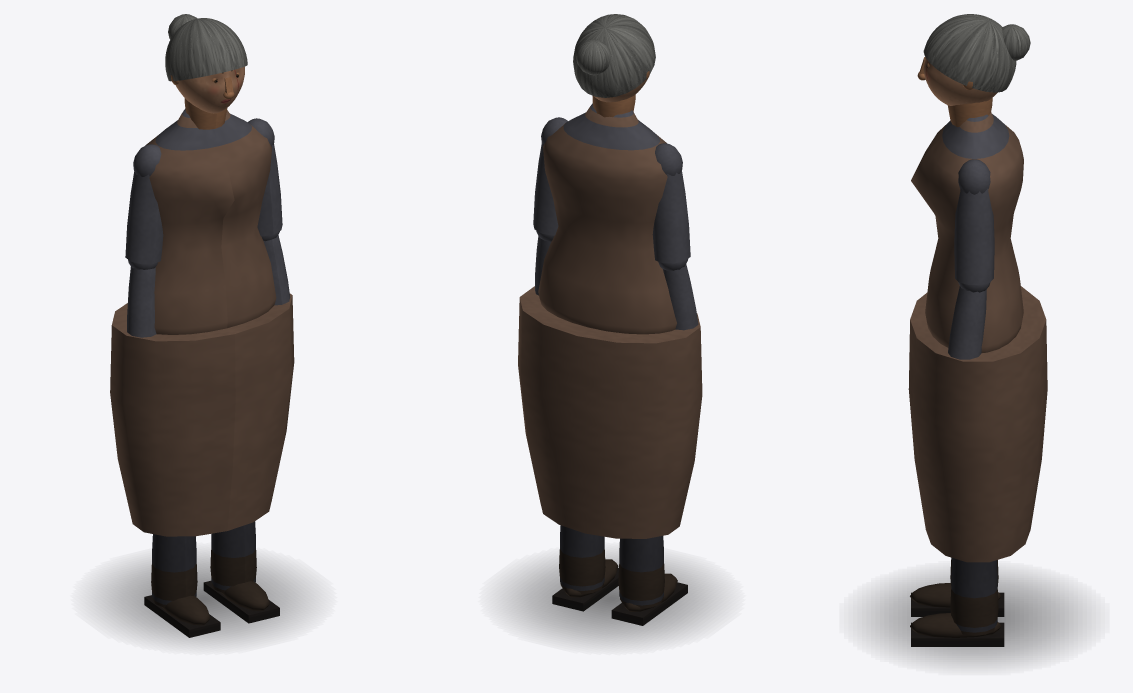
Rendered from npc_rook.glb.
3 views of the same model, side by side, from view 1: azimuth 30°, elevation 25°; view 2: azimuth 150°, elevation 25°; view 3: azimuth 270°, elevation 25° (orthographic). The views are drawn at different scales.
Parts seen in each view (by area): view 1: object 7, chest, object 12, head, shinL, shinR, armL, foreL, armR, foreR; view 2: object 7, chest, object 12, head, shinL, shinR, armL, armR, foreL; view 3: object 7, chest, object 12, head, shinR, armR, foreR, shinL.
Boxes of the visible parts, left/top/right/bottom form: object 7: left=110, top=293, right=294, bottom=536; chest: left=145, top=98, right=276, bottom=334; object 12: left=97, top=554, right=309, bottom=643; head: left=165, top=14, right=247, bottom=113; shinL: left=144, top=534, right=220, bottom=637; shinR: left=203, top=521, right=279, bottom=623; armL: left=125, top=144, right=163, bottom=264; foreL: left=127, top=260, right=157, bottom=337; armR: left=248, top=118, right=282, bottom=236; foreR: left=261, top=231, right=290, bottom=305; object 7: left=518, top=286, right=702, bottom=538; chest: left=538, top=95, right=676, bottom=334; object 12: left=506, top=554, right=718, bottom=643; head: left=573, top=14, right=655, bottom=102; shinL: left=611, top=536, right=687, bottom=625; shinR: left=552, top=525, right=618, bottom=611; armL: left=652, top=143, right=690, bottom=263; armR: left=533, top=117, right=567, bottom=235; foreL: left=658, top=259, right=698, bottom=330; object 7: left=908, top=286, right=1047, bottom=562; chest: left=911, top=98, right=1023, bottom=352; object 12: left=866, top=573, right=1082, bottom=663; head: left=917, top=14, right=1030, bottom=105; shinR: left=910, top=558, right=1004, bottom=646; armR: left=954, top=159, right=994, bottom=284; foreR: left=948, top=282, right=990, bottom=359; shinL: left=910, top=557, right=1004, bottom=616.
Size of the model in its own units: 0.77 by 1.79 by 0.77.
Materials: 7 (6 with a texture image).
